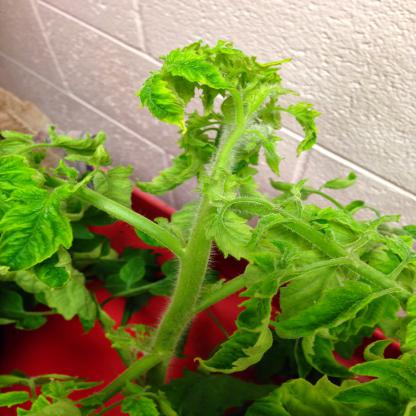Tomato leaf yellow virus: (198, 270, 284, 381), (0, 178, 82, 274), (277, 278, 387, 345), (133, 73, 196, 143), (167, 42, 239, 98), (207, 203, 274, 263)
